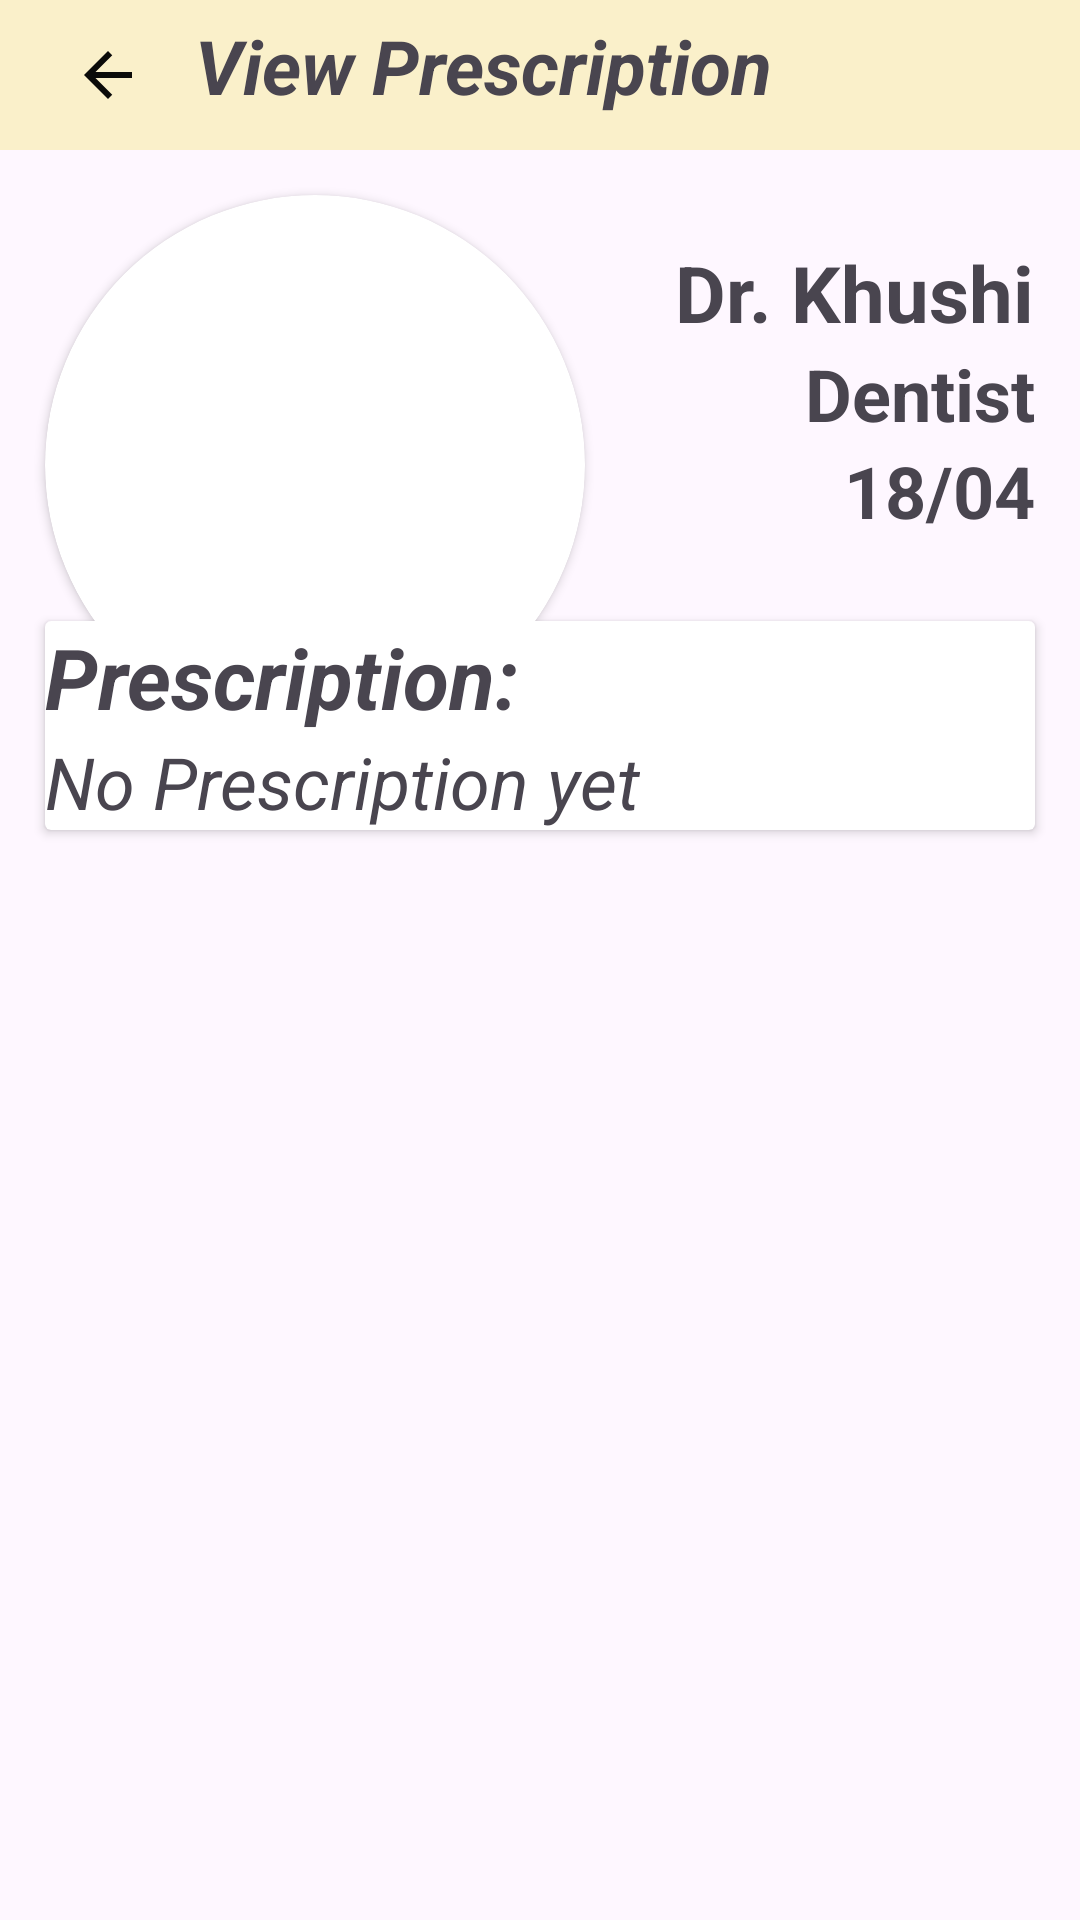

Where icons sit on this 1080x1920 app screen, as (x1, y1, x2, y2):
back arrow: (84, 51, 132, 99)
